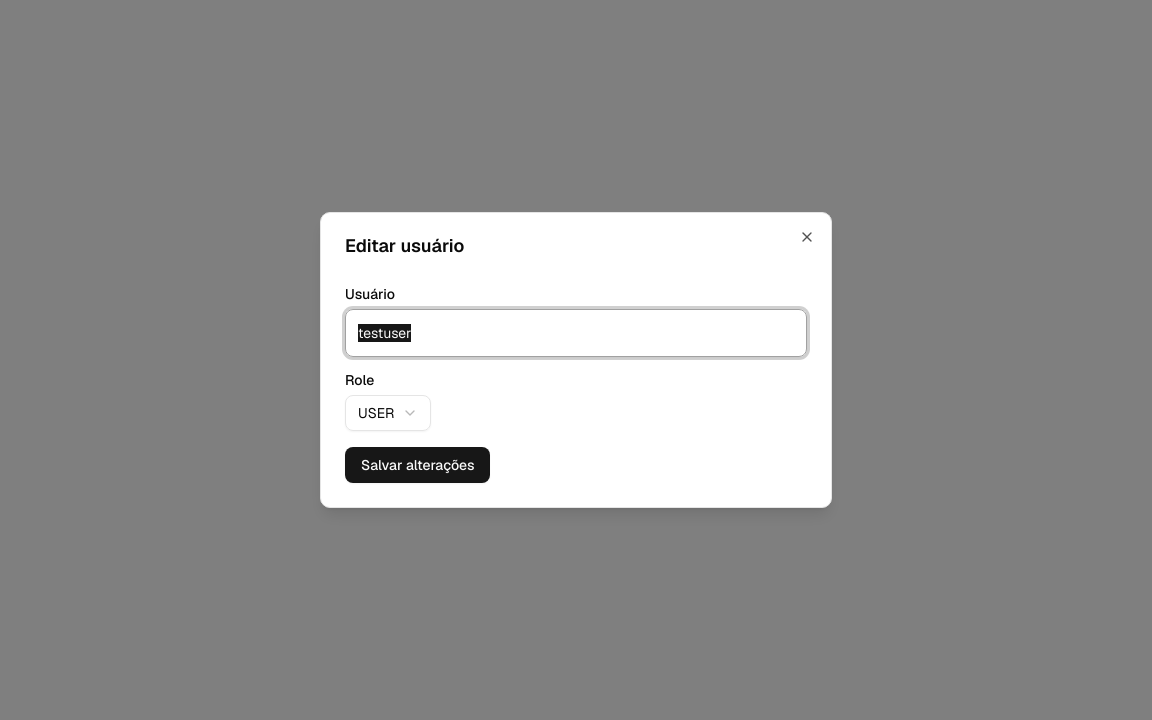
EditUserModal › exibe erro se usuário for vazio
Clear the field with placeholder "Seu usuário": (576, 333) [345,309,807,357]
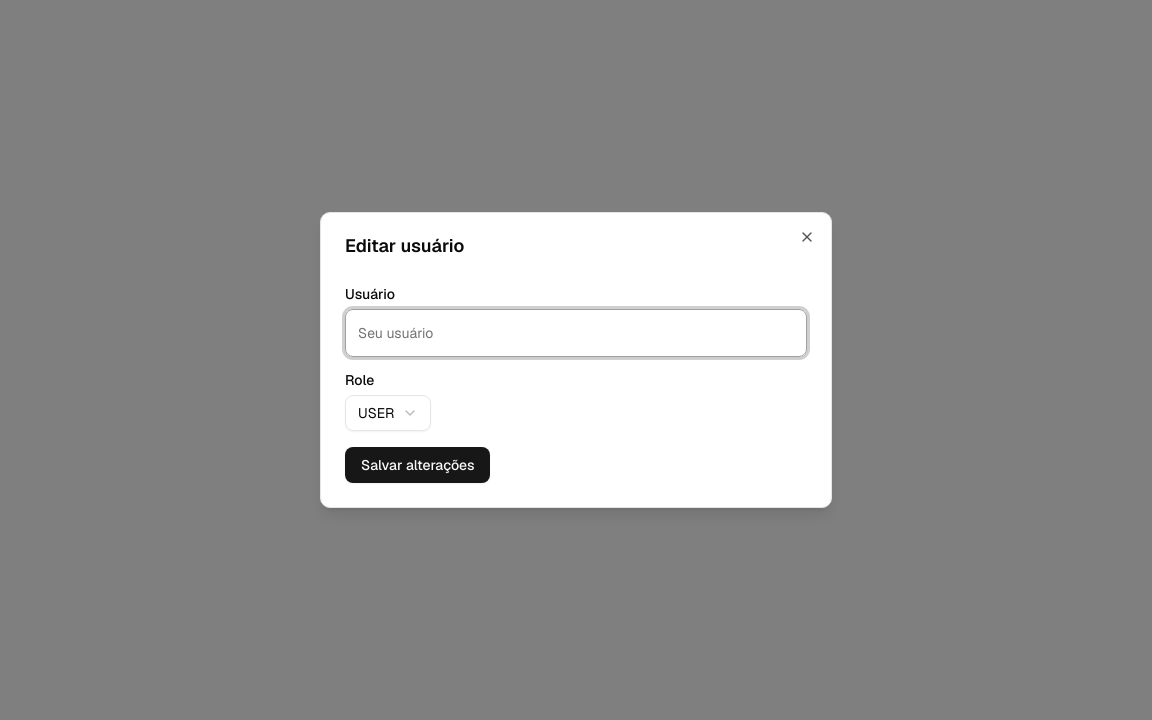
Click the button "Salvar alterações": click(418, 465) [345,447,490,483]
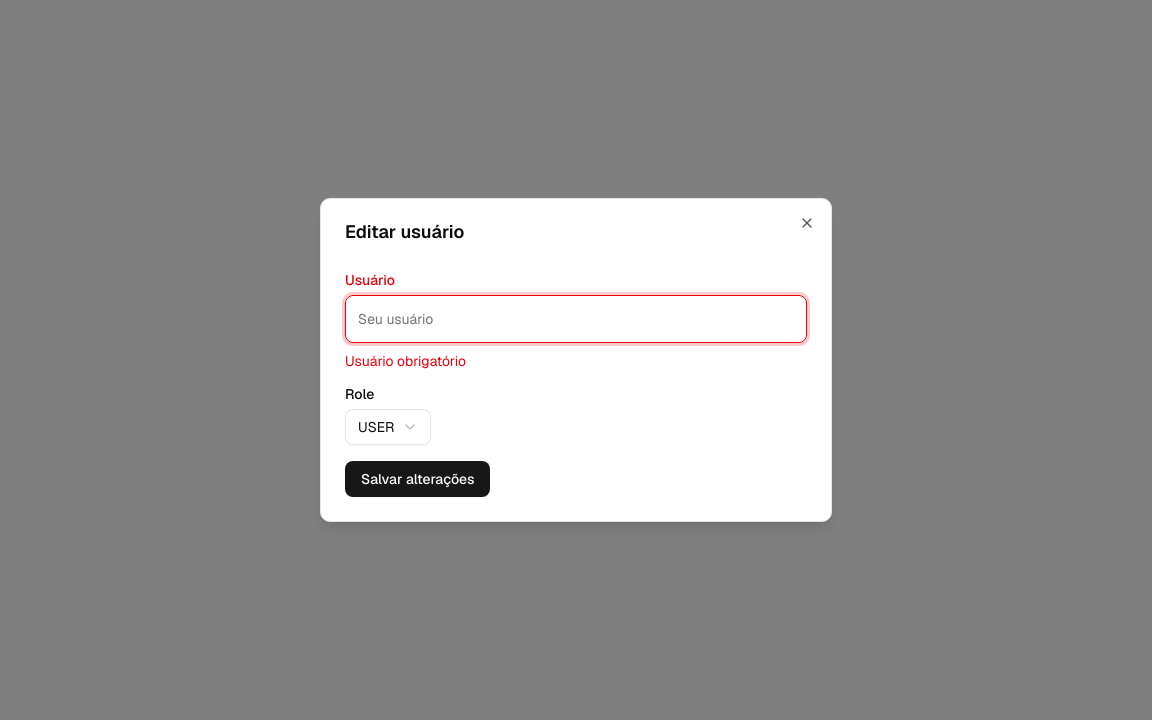
Expected: the text "Usuário obrigatório" is shown, [345,352,466,370]
